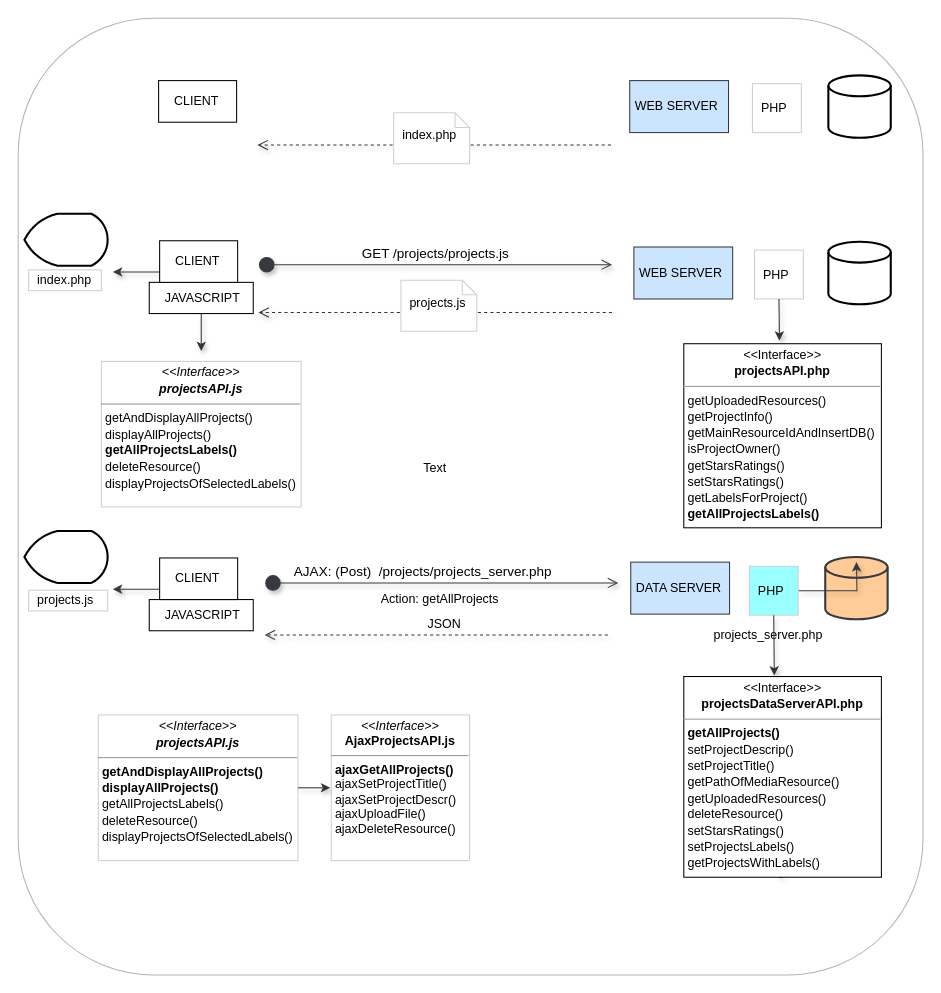
Some shapes in this 941 by 993 pixel diagram are drawn without their labels. The centre of each missing label's shape, as x and y in pixels:
html: pixel 65 239
html javascript: pixel 65 556
